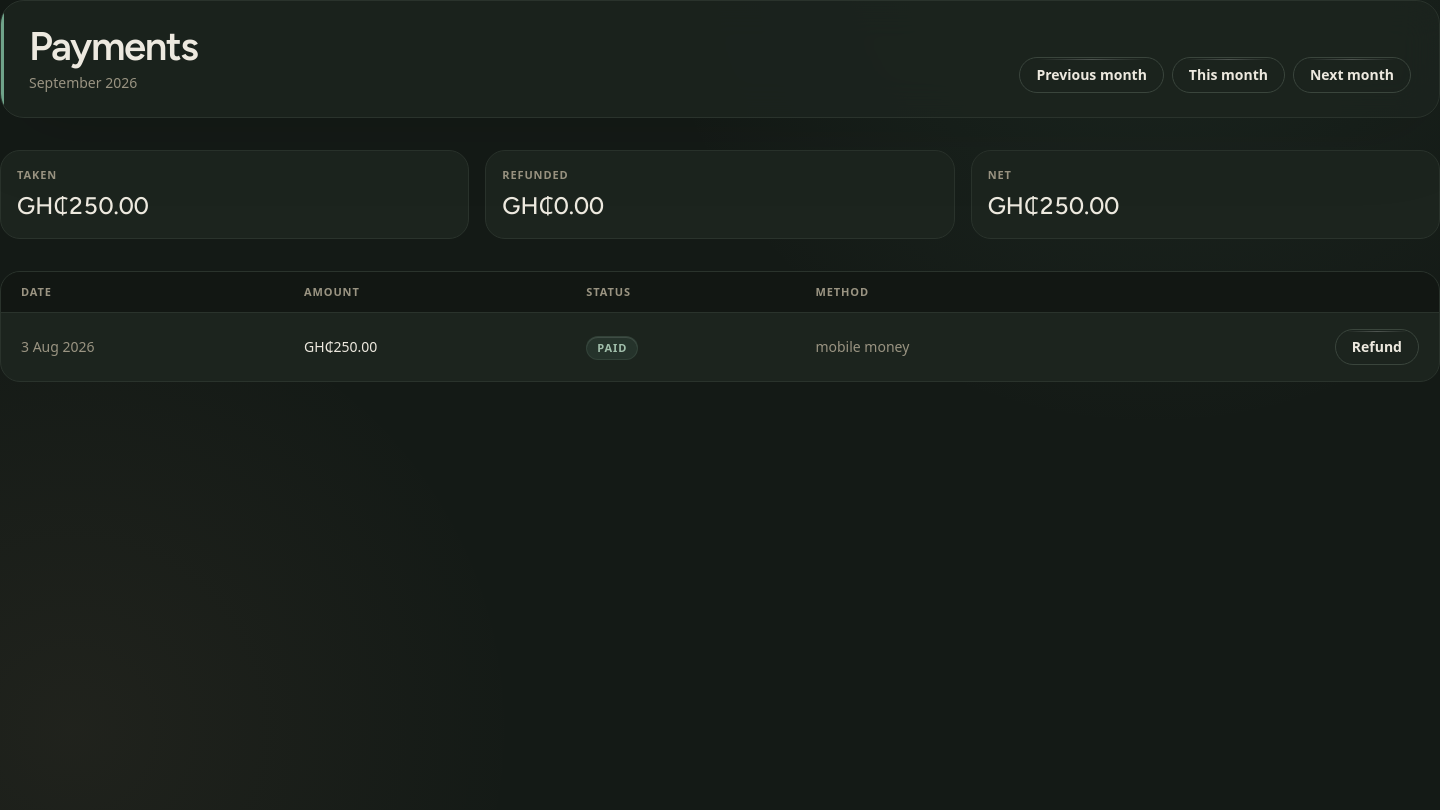
Test case: PaymentsPage › can be dismissed without refunding
Click the button "Refund" at (1377,347), box [1335,329,1419,365]
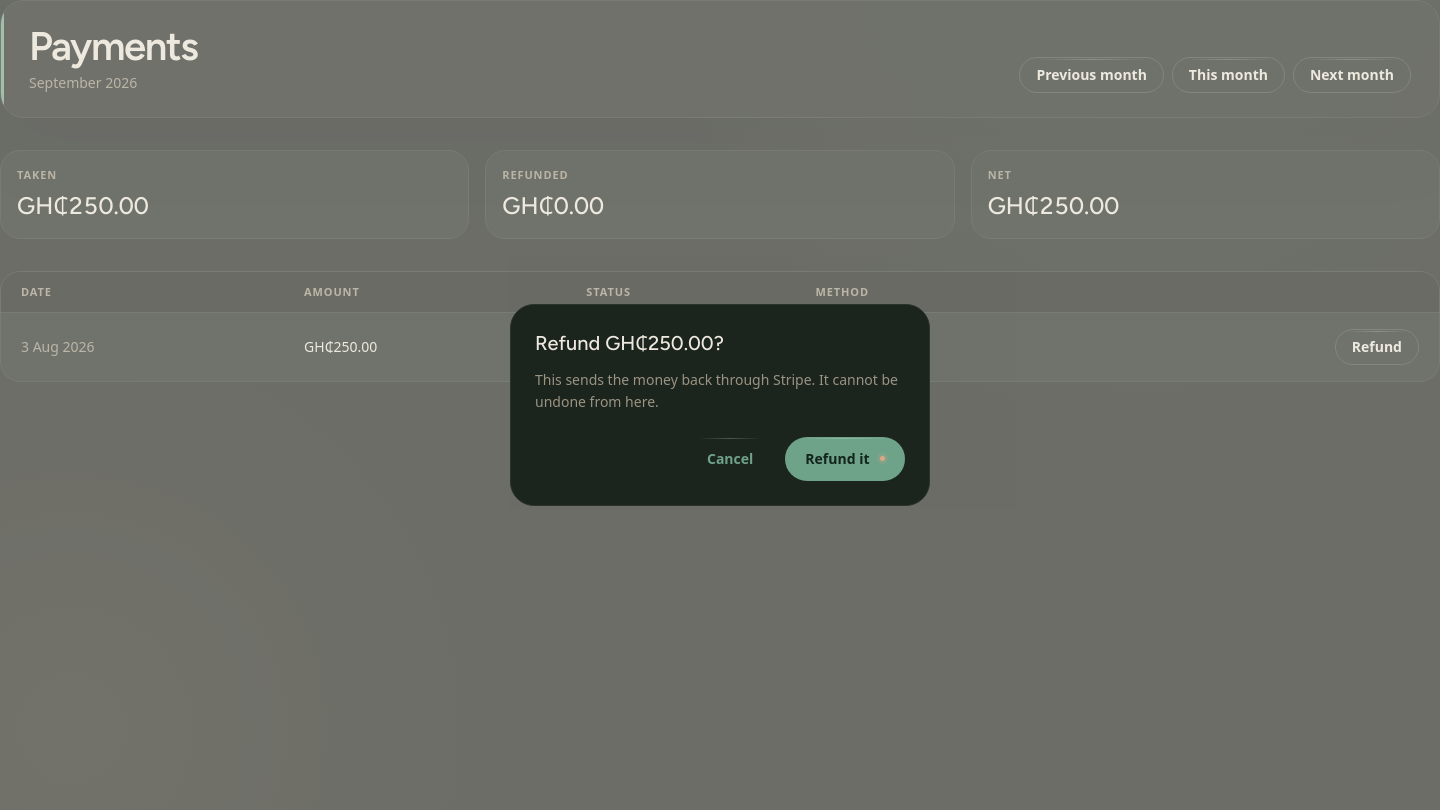
Click the button "Cancel" at (730,459), box [687,437,773,481]
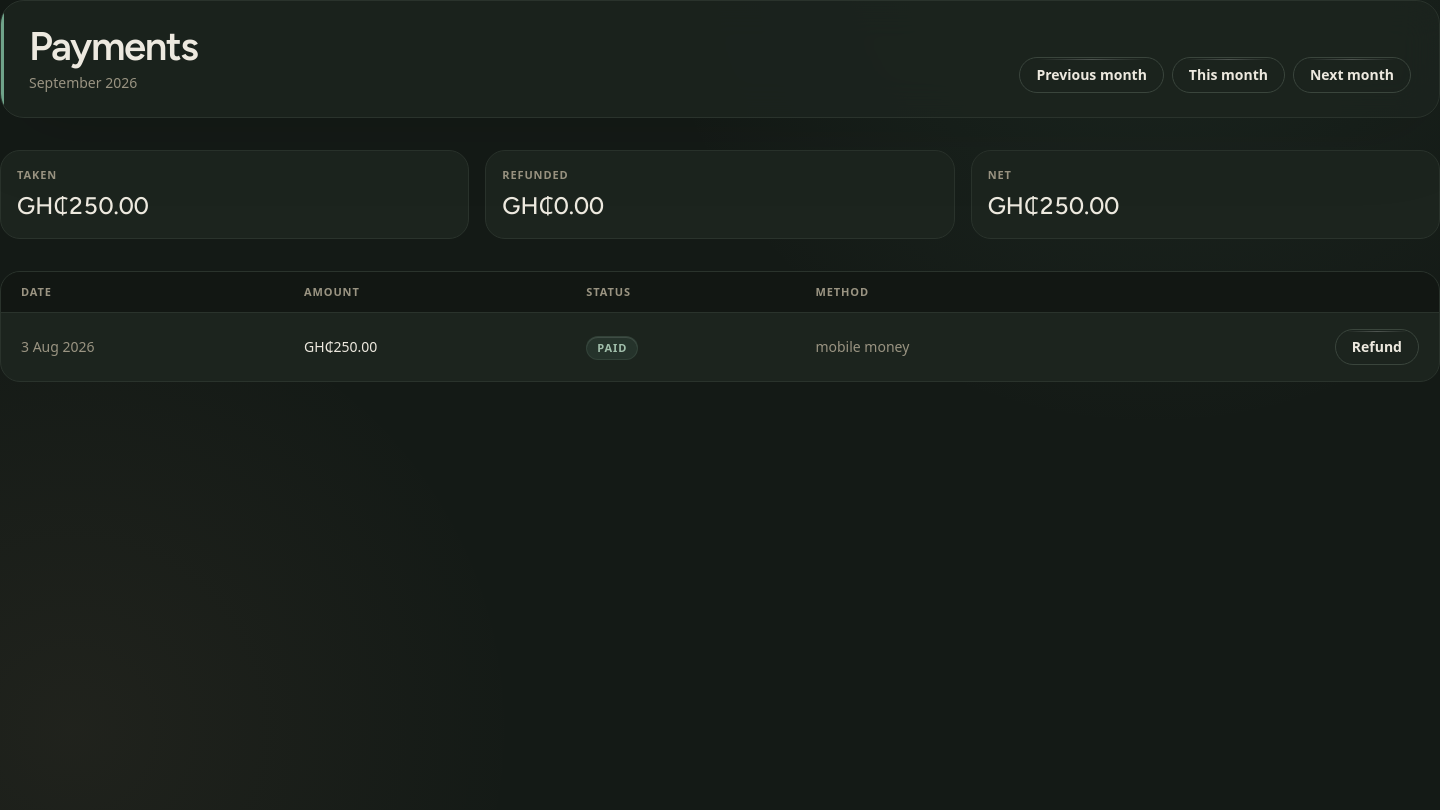
Check: the dialog is gone
